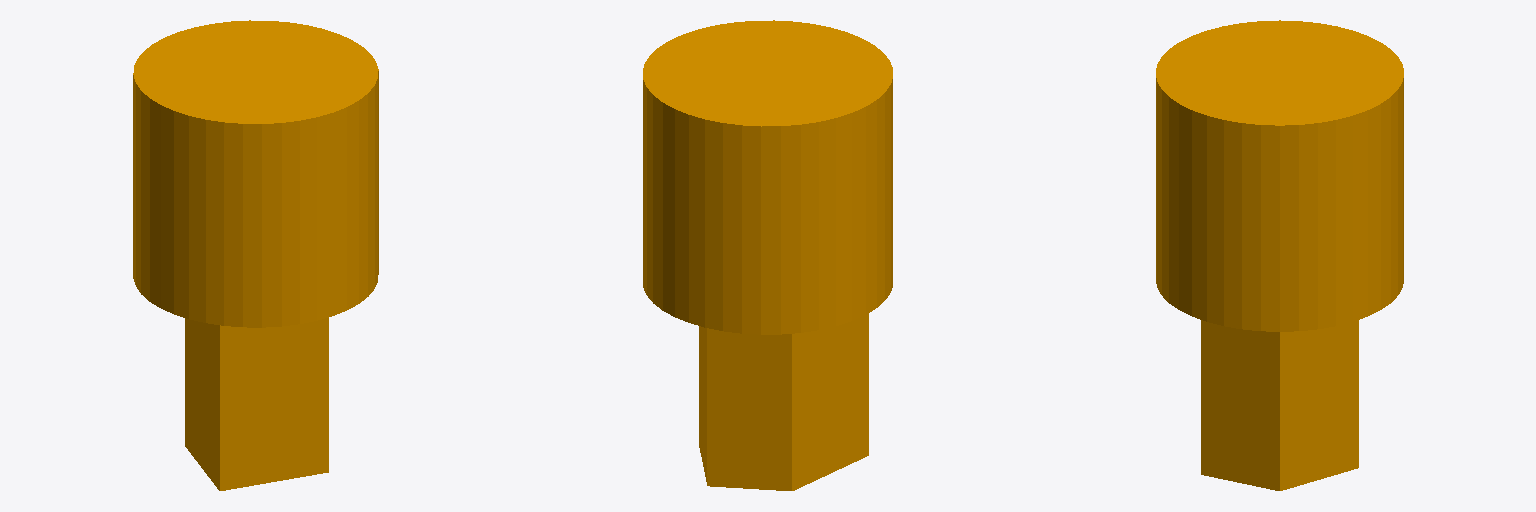
The robot description file, URDF, robot "peg_asymmetric":
<?xml version='1.0' encoding='utf-8'?>
<robot name="peg_asymmetric">
  <link name="body">
    <inertial>
      <origin xyz="-8.298422101736568e-05 -0.0004979053261041973 0.0862223258773628" />
      <mass value="0.12" />
      <inertia ixx="0.00020092138061068732" iyy="0.00020055269044306597" izz="8.561125740476821e-05" ixy="-4.129977623230631e-07" ixz="-5.349726437008742e-07" iyz="-3.209835862205301e-06" />
    </inertial>
    <collision>
      <geometry>
        <mesh filename="part_00.obj" />
      </geometry>
    </collision>
    <collision>
      <geometry>
        <mesh filename="part_01.obj" />
      </geometry>
    </collision>
    <visual>
      <geometry>
        <mesh filename="visual.obj" />
      </geometry>
    </visual>
  </link>
</robot>

--- Facts derived from the render (not from the file) ---
The picture shows the robot from 3 angles, left to right: view 1: azimuth 30°, elevation 25°; view 2: azimuth 150°, elevation 25°; view 3: azimuth 270°, elevation 25°; orthographic projection.
Model peg_asymmetric with 1 links and 0 joints (none), rooted at body, posed every joint at zero.
Visible links, largest first — view 1: body; view 2: body; view 3: body.
Link boxes in pixels (<box>): body: <box>133,20,378,490</box>; body: <box>643,20,892,490</box>; body: <box>1156,20,1403,490</box>.
Bounding box of the posed robot: 0.082 × 0.082 × 0.14 m (x, y, z).
Meshes: 1 distinct files referenced, 1 mesh visuals loaded (1 OBJ).
